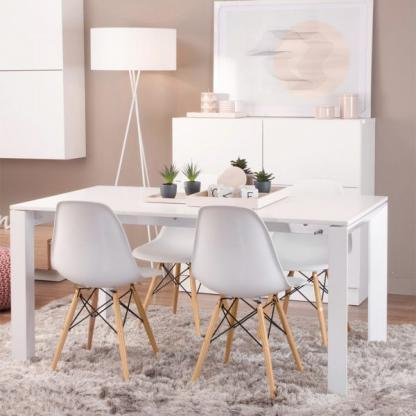chair: (188, 204, 302, 392), (50, 201, 165, 371), (264, 167, 359, 338), (134, 168, 216, 282)
